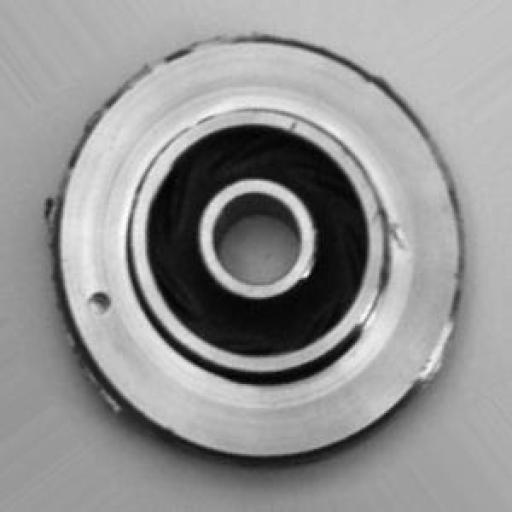defect: (18, 18, 484, 482), (70, 259, 113, 335)
